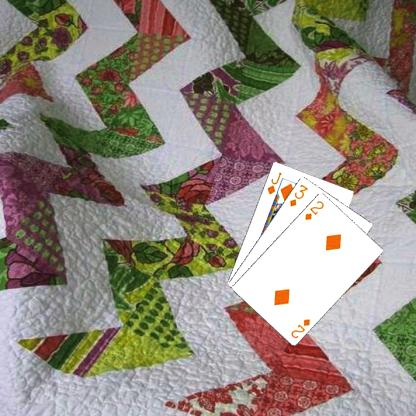2D: (302, 198, 326, 222), (288, 316, 311, 340)
3D: (287, 181, 309, 208)
JD: (264, 169, 283, 196)
